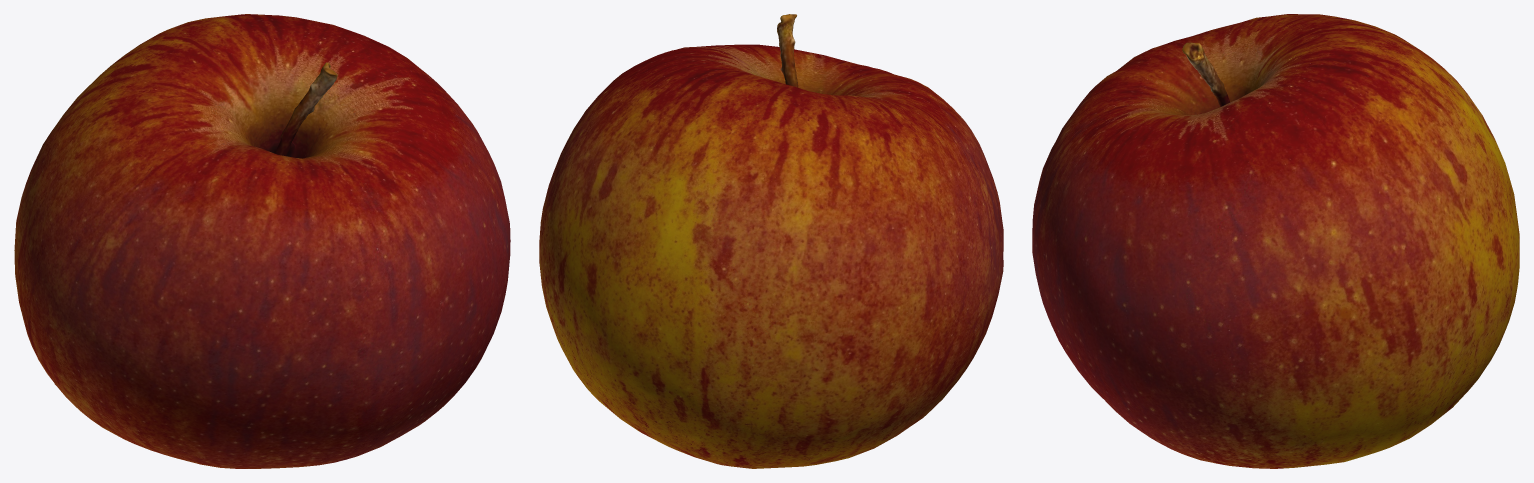
The picture shows the model from 3 angles, left to right: view 1: azimuth 30°, elevation 25°; view 2: azimuth 150°, elevation 25°; view 3: azimuth 270°, elevation 25°; orthographic projection. The views are drawn at different scales.
Parts seen in each view (by area): view 1: food_apple_01; view 2: food_apple_01; view 3: food_apple_01.
Boxes of the visible parts, x1,y1,x2,y2 form: food_apple_01: (14,14,510,468); food_apple_01: (539,14,1003,468); food_apple_01: (1032,14,1519,468).
Bounding box in the file's own units: 0.0976 × 0.0854 × 0.0959.
Materials: 1 (1 with a texture image).
